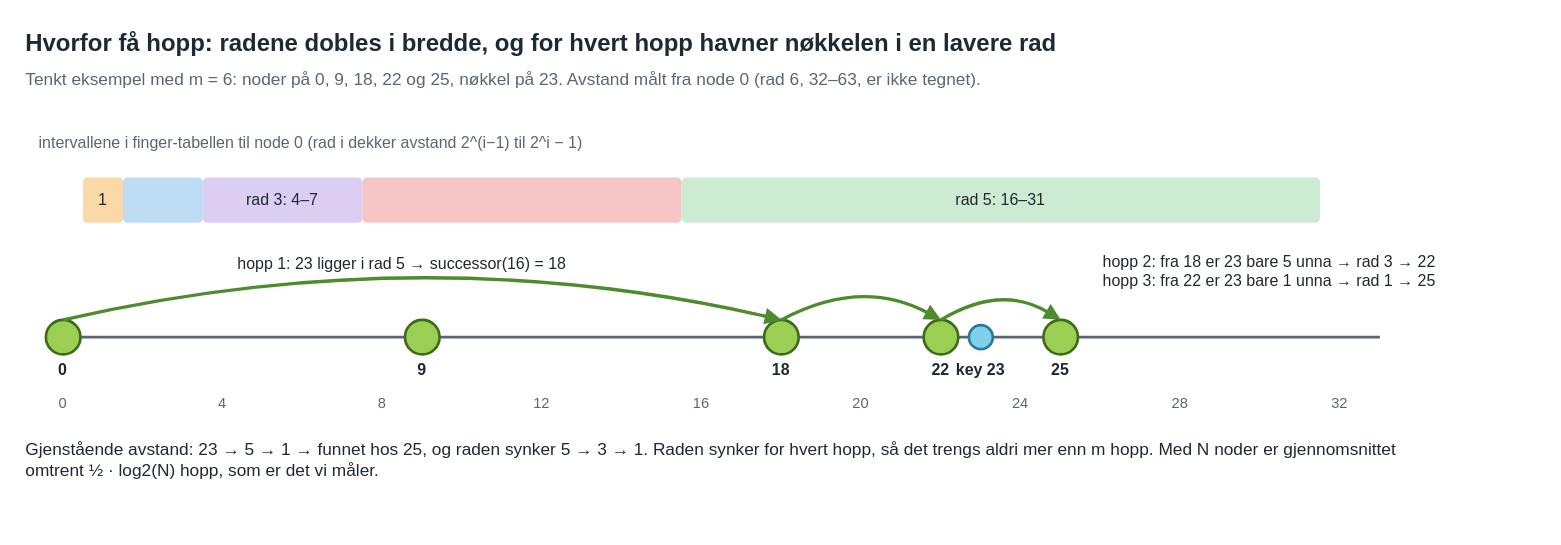
This 1561x545 diagram has some shape labels left out. The shapes that lost their labels are listed below. From the top down, each one's centre as x and y in pixels, then its label:
At point (162, 199): "rad 2: 2–3".
At point (521, 199): "rad 4: 8–15".
